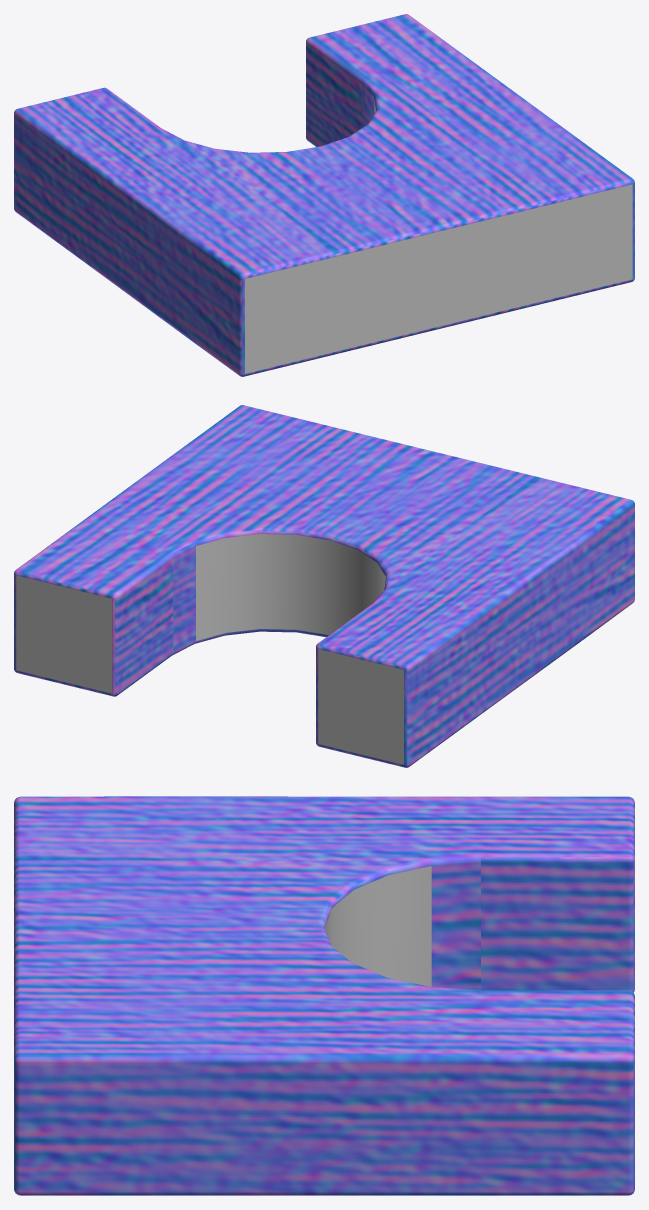
The model's file is cly_AssetPipelineArch.fbx.
3 views of the same model, one above another, from view 1: azimuth 30°, elevation 25°; view 2: azimuth 150°, elevation 25°; view 3: azimuth 270°, elevation 25° (orthographic). The views are drawn at different scales.
Visible parts, largest first — view 1: pCube5; view 2: pCube5; view 3: pCube5.
Boxes of the visible parts, <box> form: pCube5: <box>14,14,634,376</box>; pCube5: <box>14,405,634,767</box>; pCube5: <box>14,796,634,1195</box>.
Size of the model in its own units: 400 by 100 by 400.
